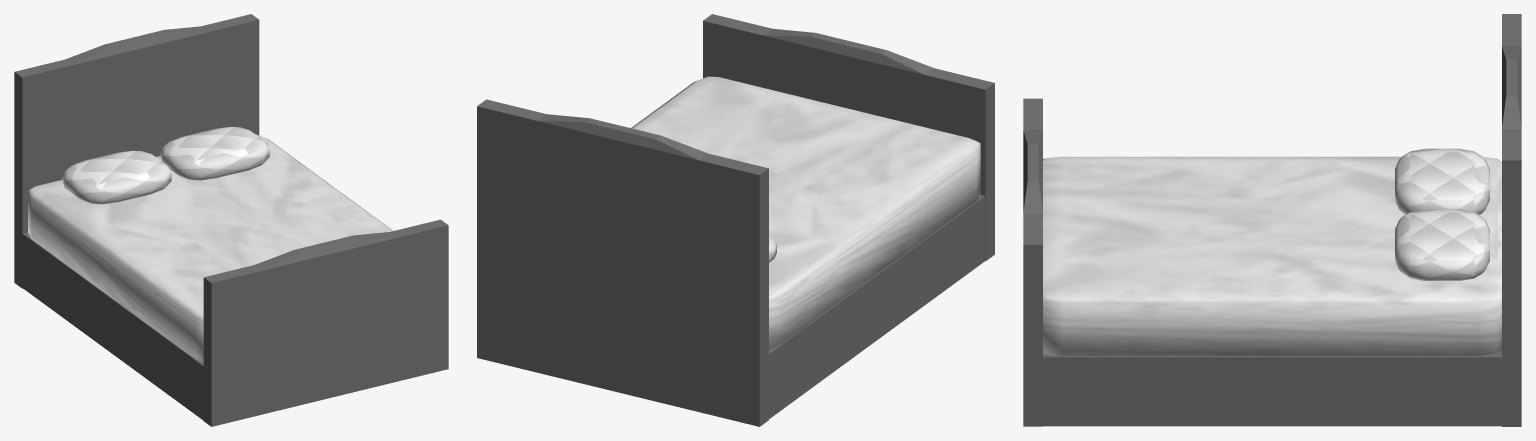
File: Bed.fbx
3 renders of one model, left to right at view 1: azimuth 30°, elevation 25°; view 2: azimuth 150°, elevation 25°; view 3: azimuth 270°, elevation 25°, orthographic. The views are drawn at different scales.
Parts seen in each view (by area): view 1: Frame2, Mattress, Frame1, Box, Pillow1, Pillow2; view 2: Frame1, Mattress, Frame2, Box; view 3: Mattress, Box, Frame1, Frame2, Pillow2, Pillow1.
Boxes of the visible parts, x1=… form: Frame2: x1=203, y1=219, x2=448, y2=426; Mattress: x1=28, y1=134, x2=393, y2=362; Frame1: x1=14, y1=14, x2=259, y2=288; Box: x1=22, y1=232, x2=203, y2=420; Pillow1: x1=62, y1=150, x2=171, y2=204; Pillow2: x1=160, y1=127, x2=269, y2=180; Frame1: x1=477, y1=99, x2=768, y2=426; Mattress: x1=631, y1=76, x2=980, y2=348; Frame2: x1=703, y1=14, x2=994, y2=261; Box: x1=769, y1=195, x2=985, y2=418; Mattress: x1=1043, y1=156, x2=1501, y2=355; Box: x1=1043, y1=350, x2=1501, y2=426; Frame1: x1=1502, y1=14, x2=1521, y2=426; Frame2: x1=1023, y1=98, x2=1042, y2=426; Pillow2: x1=1395, y1=209, x2=1489, y2=280; Pillow1: x1=1395, y1=148, x2=1489, y2=214.
Size of the model in its own units: 309 by 272 by 445.
